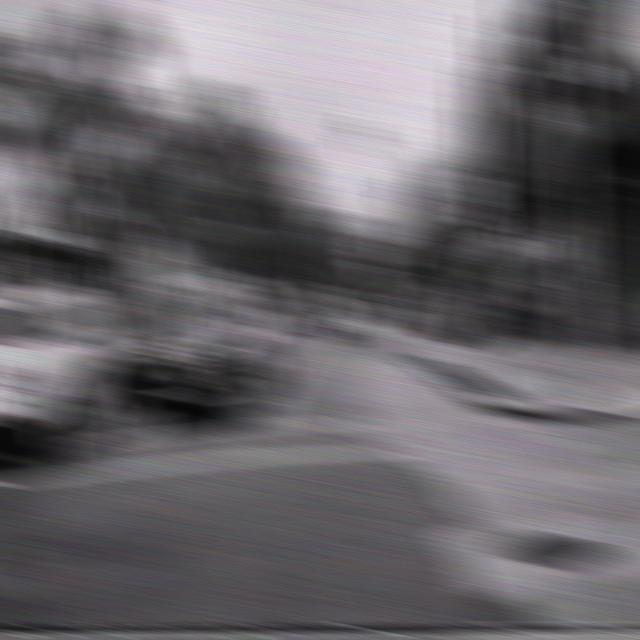speedLimit25: (455, 172, 498, 228)
